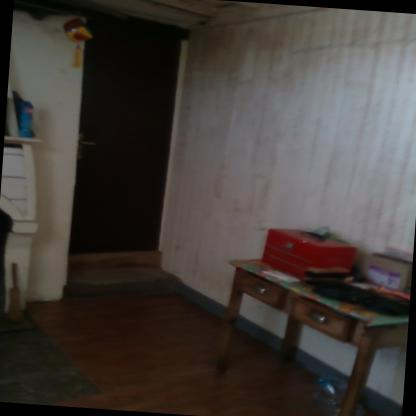closed: (60, 2, 190, 270)
